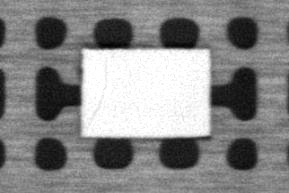DIE_CRACK: (86, 56, 108, 126)
